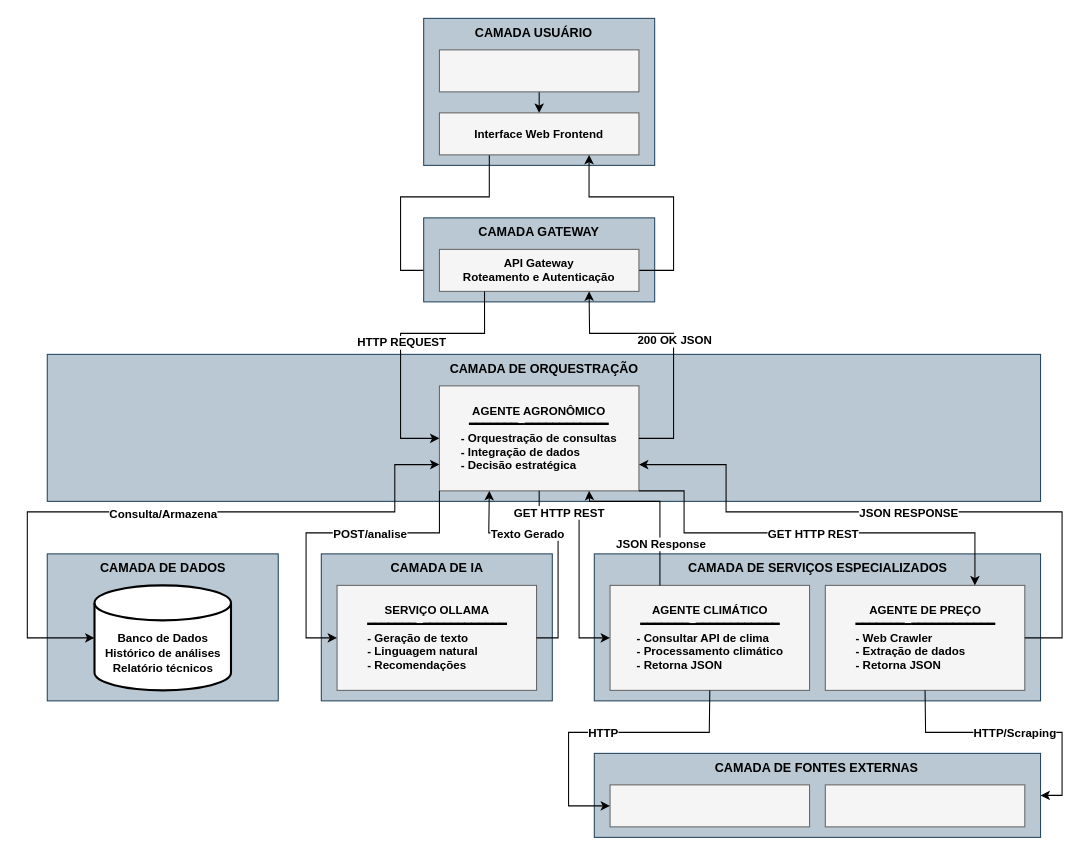
This 1089x856 diagram has some shape labels left out. Each missing label, with the centre of its shape:
API de Clima: [709,805]
Fontes de Preço: [924,805]
Usuário: [538,70]
